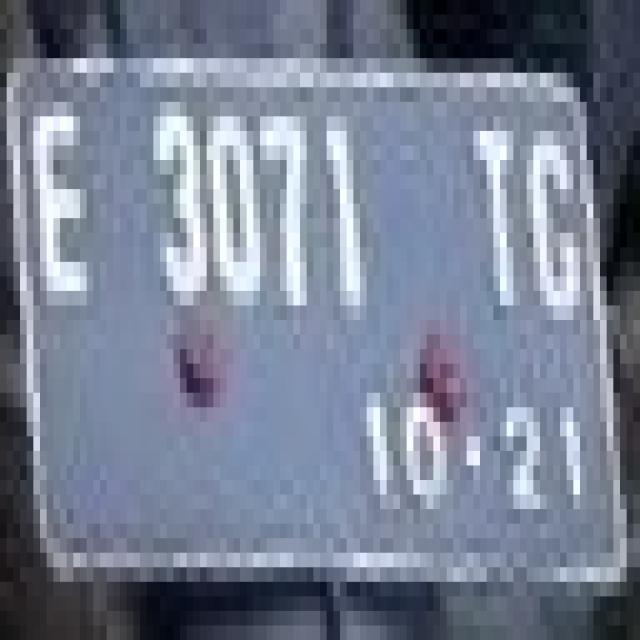plate: (0, 29, 627, 596)
